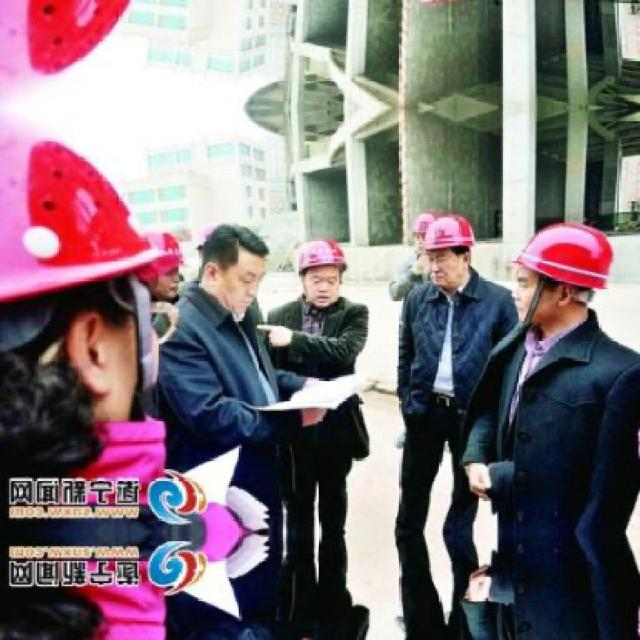con casco: (0, 116, 170, 506), (506, 220, 626, 407), (423, 216, 488, 337), (280, 230, 353, 326)
sin casco: (188, 205, 280, 318)
